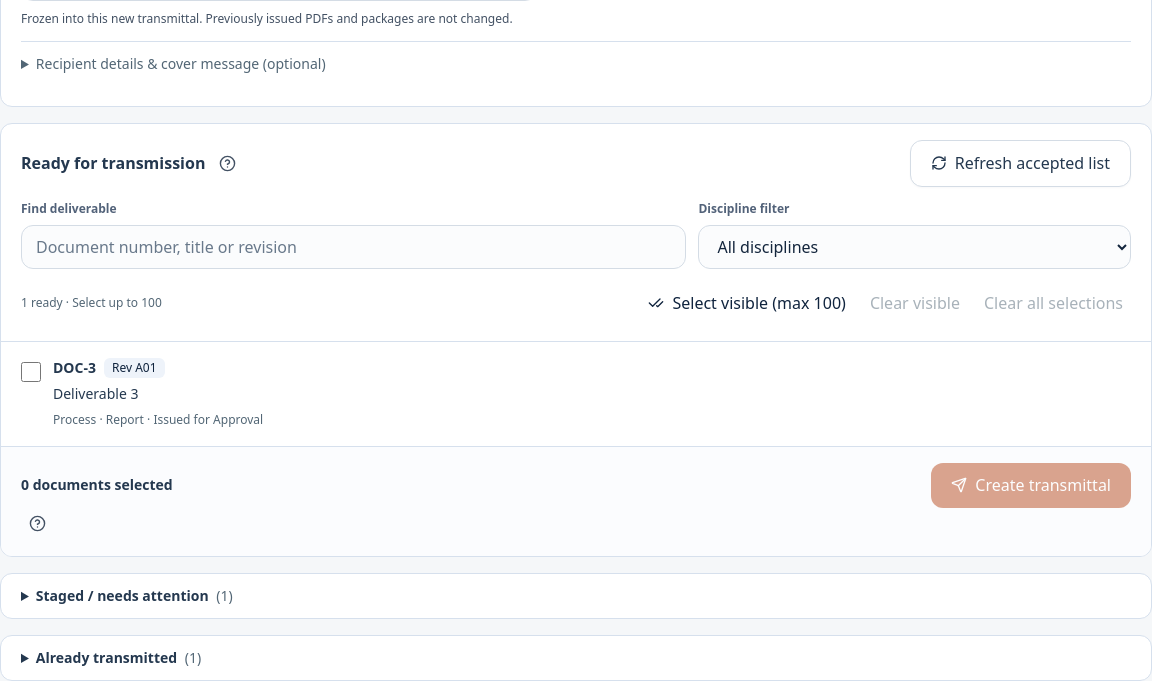
Scenario: explains electronic issue and recipient acknowledgement without claiming a qualified signature or seal
(page scrolled)
Focus the button named "Transmittal acknowledgement". click: (37, 524)
box: [21, 508, 53, 540]
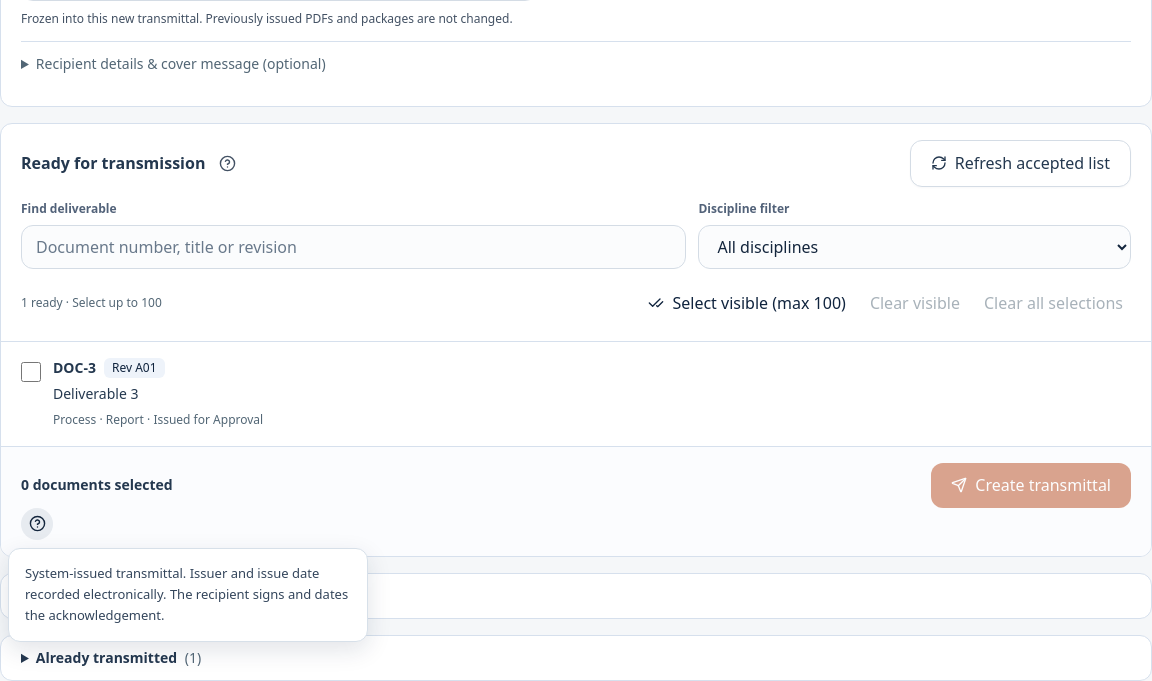
expect the tooltip shows "System-issued transmittal. Issuer and issue date recorded electronically.": met, box [25, 564, 348, 624]
expect the tooltip shows "recipient signs and dates": met, box [25, 564, 348, 624]
